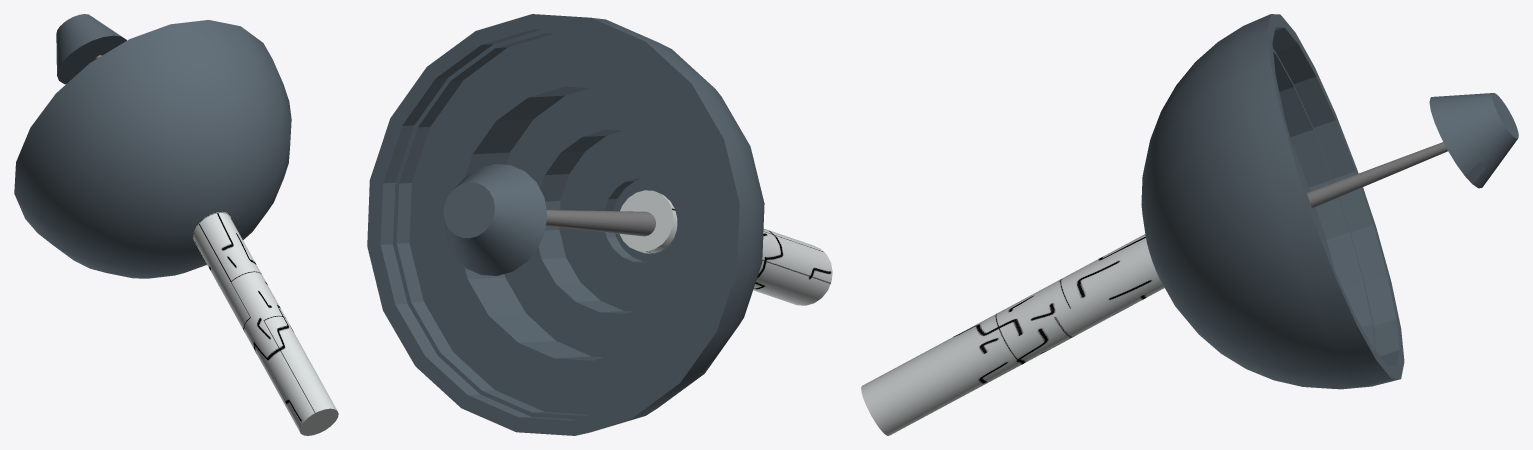
File: antena.obj
3 views of the same model, side by side, from view 1: azimuth 30°, elevation 25°; view 2: azimuth 150°, elevation 25°; view 3: azimuth 270°, elevation 25° (orthographic). The views are drawn at different scales.
Visible parts, largest first — view 1: antena:polySurface3pCylinder29; view 2: antena:polySurface3pCylinder29; view 3: antena:polySurface3pCylinder29.
Boxes of the visible parts, x1,y1,x2,y2 form: antena:polySurface3pCylinder29: [14, 14, 338, 435]; antena:polySurface3pCylinder29: [367, 14, 832, 435]; antena:polySurface3pCylinder29: [861, 14, 1518, 435].
Size of the model in its own units: 1.36 by 1.55 by 2.3.
4 materials, 3 textured.
